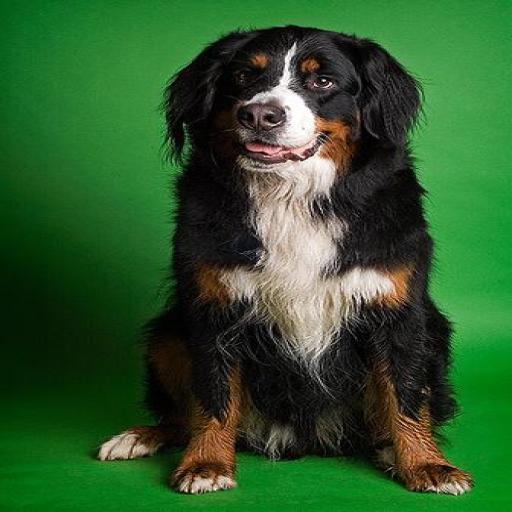dog_face: (156, 26, 412, 179)
